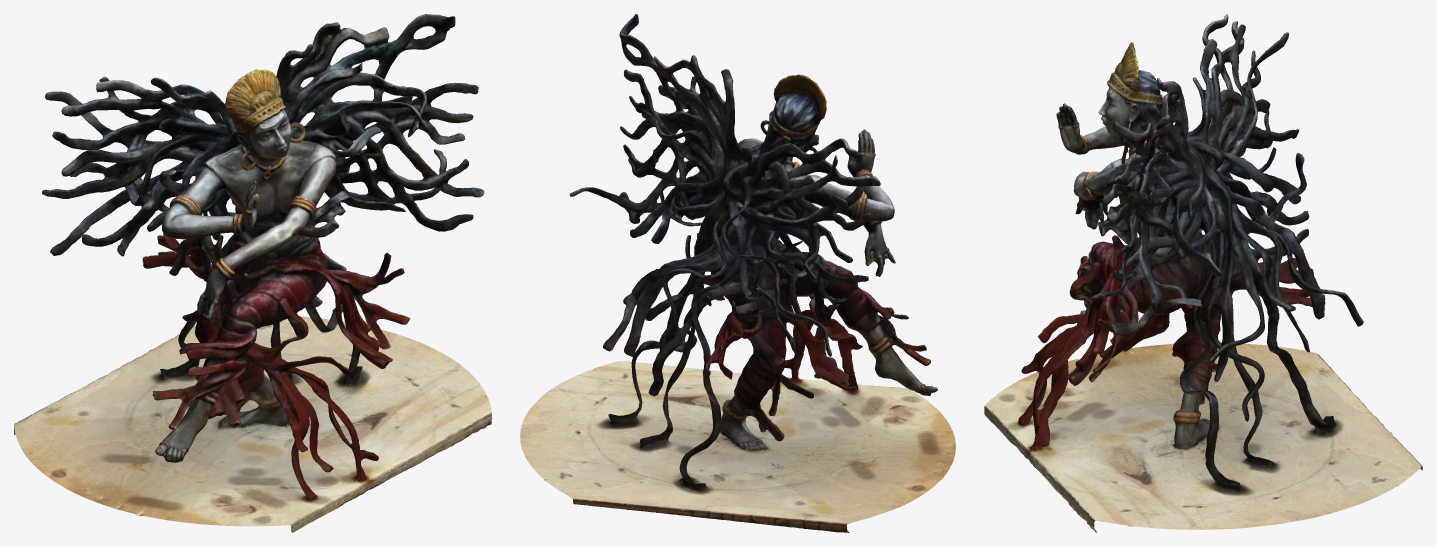
File: dancing-shiva.glb
3 views of the same model, side by side, from view 1: azimuth 30°, elevation 25°; view 2: azimuth 150°, elevation 25°; view 3: azimuth 270°, elevation 25° (orthographic). The views are drawn at different scales.
Visible parts, largest first — view 1: DancingShiva_export; view 2: DancingShiva_export; view 3: DancingShiva_export.
Boxes of the visible parts, x1,y1,x2,y2 form: DancingShiva_export: [14, 14, 491, 532]; DancingShiva_export: [520, 14, 955, 532]; DancingShiva_export: [984, 14, 1422, 532].
Bounding box in the file's own units: 0.5253 × 0.5 × 0.4936.
Materials: 1 (1 with a texture image).
